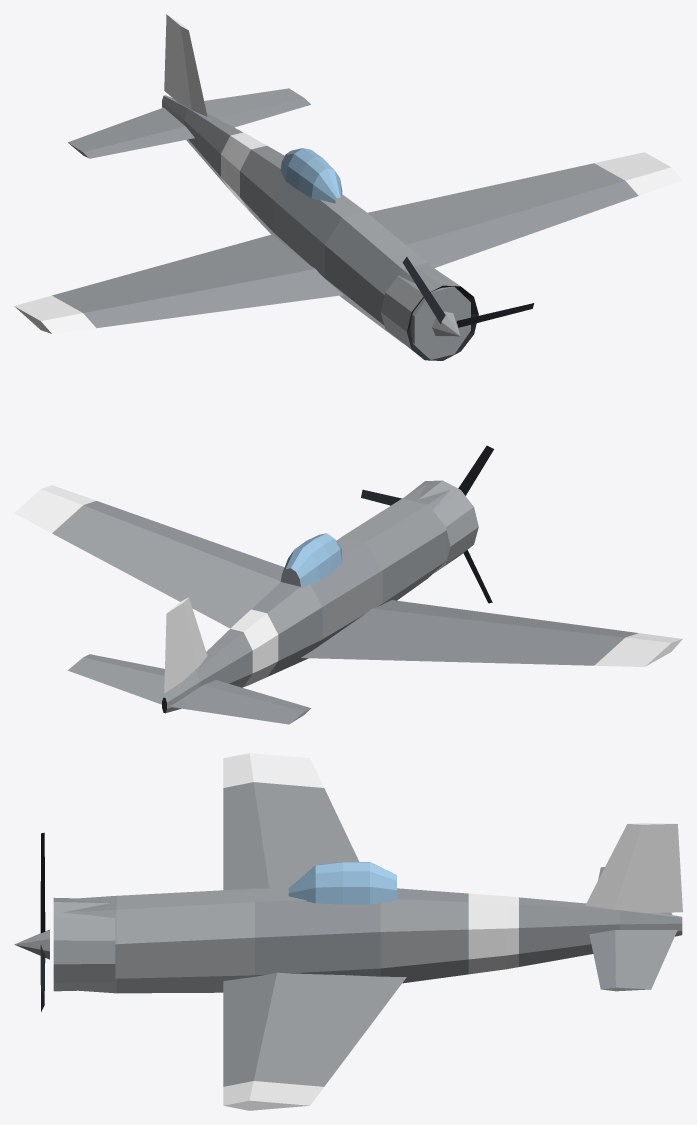
3 renders of one model, top to bottom at view 1: azimuth 30°, elevation 25°; view 2: azimuth 150°, elevation 25°; view 3: azimuth 270°, elevation 25°, orthographic. The views are drawn at different scales.
Parts seen in each view (by area): view 1: body, prop; view 2: body, prop; view 3: body, prop.
Boxes of the visible parts, x1=… form: body: x1=14, y1=14, x2=682, y2=360; prop: x1=402, y1=256, x2=534, y2=337; body: x1=14, y1=480, x2=682, y2=724; prop: x1=361, y1=445, x2=493, y2=603; body: x1=53, y1=753, x2=682, y2=1110; prop: x1=14, y1=832, x2=49, y2=1011.
Size of the model in its own units: 11.38 by 3.22 by 9.26.
